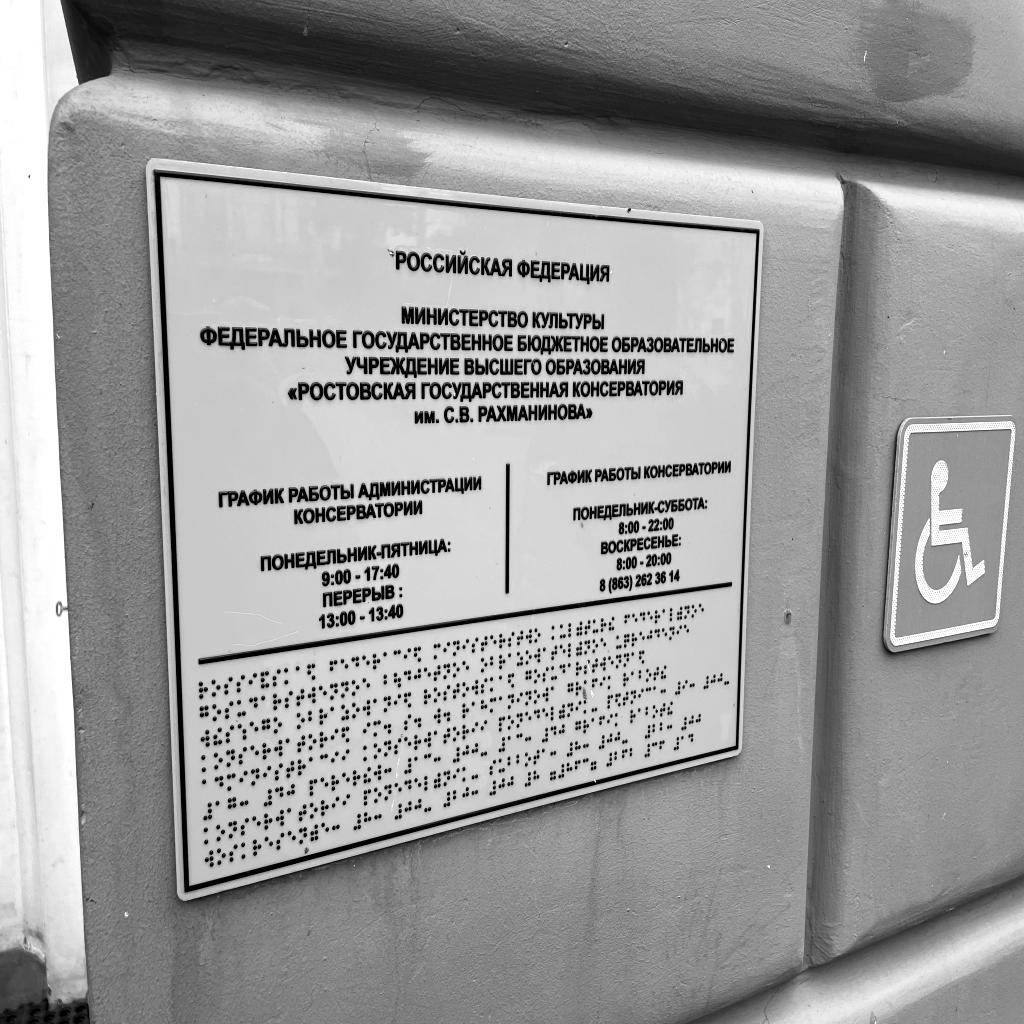_n: (228, 821, 237, 839), (226, 750, 235, 767), (251, 768, 259, 786), (299, 826, 307, 844), (330, 683, 337, 701), (453, 639, 460, 656), (443, 663, 450, 680), (384, 696, 391, 713), (384, 740, 391, 757), (385, 784, 392, 801), (341, 681, 348, 697), (508, 694, 515, 710), (444, 771, 451, 787), (516, 713, 523, 728), (630, 690, 637, 704), (585, 640, 591, 655), (669, 627, 675, 640), (616, 654, 621, 669), (624, 652, 629, 667), (568, 703, 573, 718), (526, 692, 531, 706), (685, 606, 690, 619)
_y: (237, 700, 246, 716), (498, 758, 505, 772), (560, 624, 566, 639), (551, 666, 557, 680), (616, 636, 622, 649), (593, 619, 598, 633)
a: (261, 695, 270, 712), (330, 706, 339, 723), (295, 666, 304, 682), (203, 779, 211, 797), (286, 738, 294, 755), (383, 652, 391, 668), (309, 757, 317, 773), (287, 807, 295, 823), (373, 698, 381, 713), (472, 701, 479, 717), (499, 675, 506, 690), (434, 730, 441, 745), (508, 653, 515, 667), (653, 686, 660, 700), (499, 696, 505, 711), (543, 647, 549, 661), (568, 662, 574, 676), (591, 717, 597, 731), (542, 748, 548, 762), (551, 687, 557, 700), (631, 672, 637, 685), (638, 708, 644, 721), (584, 680, 590, 692), (632, 651, 637, 665), (663, 609, 668, 622)
b: (383, 675, 392, 692), (309, 711, 317, 728), (490, 656, 497, 671), (516, 754, 523, 768), (646, 706, 652, 721), (508, 756, 514, 771), (639, 670, 645, 684)
c: (320, 754, 328, 771), (394, 649, 402, 665), (646, 687, 652, 701)
ch: (624, 634, 629, 648)
d: (215, 776, 224, 795), (351, 656, 360, 674), (249, 697, 258, 714), (403, 670, 411, 686), (405, 780, 412, 795), (560, 664, 566, 678), (534, 709, 540, 723), (654, 629, 660, 642), (640, 613, 645, 626)
d_0: (395, 800, 411, 820), (453, 745, 470, 763), (489, 778, 505, 796), (598, 733, 613, 749), (703, 674, 717, 690), (681, 715, 694, 731)
d_00: (395, 798, 422, 820), (489, 775, 514, 796), (453, 743, 479, 763), (599, 731, 621, 749), (703, 672, 723, 690), (681, 713, 701, 731)
d_1: (203, 801, 220, 821), (403, 756, 418, 774), (673, 735, 687, 751), (498, 736, 511, 752)
d_13: (404, 753, 431, 774), (498, 733, 523, 752)
d_14: (673, 733, 694, 751)
d_17: (203, 797, 237, 821)
d_2: (443, 789, 461, 808), (606, 750, 621, 767), (645, 723, 658, 739)
d_20: (443, 786, 469, 808)
d_22: (645, 721, 666, 739)
d_26: (606, 748, 628, 767)
d_262: (606, 746, 636, 767)
d_3: (645, 742, 658, 757)
d_36: (644, 740, 665, 758)
d_4: (264, 786, 283, 807), (542, 726, 557, 742)
d_40: (263, 784, 296, 807), (542, 723, 565, 743)
d_8: (353, 810, 372, 830), (525, 769, 540, 787), (558, 761, 573, 778), (567, 741, 581, 757)
d_86: (558, 760, 581, 778)
d_863: (558, 758, 589, 779)
d_9: (674, 680, 688, 695)
defis: (424, 798, 432, 813), (481, 743, 488, 757), (592, 699, 598, 712), (472, 766, 478, 779), (622, 732, 628, 744), (725, 674, 730, 686)
dvoetochie: (240, 796, 249, 812), (332, 821, 340, 836), (374, 810, 382, 825), (471, 786, 478, 801), (385, 764, 392, 778), (434, 753, 441, 767), (525, 733, 532, 746), (550, 748, 557, 760), (689, 680, 695, 693), (583, 740, 589, 752), (667, 721, 673, 733), (661, 685, 666, 698)
e: (362, 677, 371, 696), (250, 745, 259, 763), (340, 658, 349, 675), (250, 722, 259, 739), (252, 816, 261, 833), (264, 836, 273, 853), (288, 830, 297, 846), (363, 655, 371, 672), (319, 685, 327, 702), (404, 736, 412, 753), (321, 822, 329, 839), (489, 635, 497, 651), (321, 777, 329, 793), (342, 773, 350, 789), (395, 782, 403, 798), (414, 777, 422, 793), (424, 667, 431, 683), (462, 661, 469, 676), (525, 711, 532, 726), (559, 645, 566, 659), (699, 603, 705, 618), (632, 613, 638, 627), (601, 638, 607, 652), (608, 656, 614, 670), (542, 708, 548, 722), (647, 611, 653, 624), (640, 632, 645, 645), (662, 628, 667, 640), (684, 625, 689, 637)
f: (329, 660, 338, 677), (599, 716, 605, 730), (624, 615, 630, 628), (592, 679, 598, 692)
g: (199, 706, 209, 724), (262, 719, 270, 737), (525, 670, 532, 685), (568, 683, 574, 697), (575, 721, 581, 735)
gh: (414, 668, 422, 685), (647, 630, 652, 645)
i: (239, 770, 248, 789), (248, 672, 257, 690), (330, 728, 339, 746), (263, 766, 272, 783), (341, 749, 350, 766), (331, 751, 339, 769), (343, 794, 351, 811), (403, 648, 411, 664), (394, 694, 402, 710), (332, 797, 340, 813), (443, 642, 450, 659), (363, 722, 370, 739), (462, 639, 469, 655), (453, 768, 460, 784), (472, 722, 479, 737), (517, 692, 523, 708), (481, 720, 487, 735), (638, 688, 644, 703), (607, 713, 613, 728), (576, 701, 582, 715), (676, 626, 682, 639), (600, 677, 606, 690)
iKratkoe: (260, 671, 270, 688)
ii: (214, 728, 223, 745), (363, 766, 371, 784), (660, 665, 667, 680), (609, 616, 615, 631), (668, 701, 673, 715)
k: (201, 755, 210, 773), (284, 668, 293, 685), (204, 828, 213, 845), (241, 842, 250, 859), (363, 745, 371, 762), (463, 766, 470, 782), (551, 625, 558, 640), (490, 677, 497, 692), (615, 713, 621, 727), (608, 676, 614, 689), (584, 700, 589, 714)
l: (425, 775, 432, 791), (568, 623, 575, 638), (569, 643, 575, 658), (551, 706, 557, 721), (670, 608, 676, 622)
m: (227, 774, 235, 792), (374, 720, 381, 737), (434, 643, 441, 659), (490, 698, 496, 713)
myagkiy: (311, 824, 319, 841), (576, 621, 583, 636), (434, 773, 441, 788), (677, 606, 683, 621), (576, 641, 582, 656), (559, 704, 565, 719)
o: (211, 679, 221, 697), (212, 703, 221, 722), (273, 716, 282, 734), (214, 752, 223, 769), (217, 848, 226, 865), (308, 733, 316, 751), (216, 825, 225, 841), (310, 802, 318, 819), (297, 713, 305, 729), (373, 743, 381, 759), (352, 679, 359, 696), (453, 662, 460, 678), (352, 703, 359, 719), (462, 681, 469, 697), (453, 726, 460, 742), (374, 787, 381, 803), (525, 650, 532, 665), (434, 687, 441, 702), (507, 715, 514, 730), (534, 628, 541, 642), (481, 658, 488, 672), (534, 689, 540, 704), (525, 752, 531, 767), (534, 669, 540, 683), (646, 668, 652, 682), (691, 605, 697, 618), (593, 639, 598, 653), (653, 705, 658, 718)
p: (310, 779, 318, 796), (364, 789, 371, 806), (499, 716, 505, 732), (608, 695, 613, 709)
r: (198, 681, 208, 699), (273, 693, 282, 710), (253, 839, 262, 856), (319, 709, 328, 725), (263, 743, 271, 761), (298, 759, 306, 777), (373, 653, 381, 670), (320, 731, 328, 748), (265, 813, 273, 830), (321, 800, 329, 816), (332, 775, 339, 792), (353, 769, 360, 786), (499, 633, 506, 649), (424, 689, 431, 705), (414, 735, 421, 750), (462, 725, 469, 740), (499, 655, 506, 669), (601, 617, 607, 632), (576, 661, 582, 676), (463, 703, 469, 718), (632, 633, 638, 647), (576, 682, 582, 696), (584, 720, 590, 734), (630, 709, 636, 723), (623, 673, 629, 686), (655, 609, 660, 624)
s: (223, 677, 233, 695), (236, 675, 245, 694), (272, 669, 281, 687), (225, 701, 234, 719), (241, 818, 250, 836), (229, 844, 238, 862), (276, 832, 285, 850), (284, 691, 293, 708), (226, 726, 234, 744), (239, 747, 247, 765), (275, 764, 283, 781), (394, 738, 402, 755), (481, 678, 488, 695), (404, 714, 411, 731), (471, 637, 478, 653), (443, 685, 450, 701), (508, 632, 515, 647), (489, 760, 496, 775), (543, 667, 549, 682), (584, 660, 590, 675)
sh: (237, 723, 247, 741)
skobka: (550, 766, 556, 781), (591, 757, 597, 771)
t: (296, 689, 305, 707), (286, 761, 295, 779), (298, 804, 307, 822), (298, 735, 306, 754), (481, 635, 488, 652), (434, 665, 441, 681), (453, 684, 460, 700), (444, 728, 451, 744), (517, 630, 524, 645), (584, 620, 591, 635), (551, 646, 558, 661), (592, 658, 598, 673), (534, 750, 540, 765), (660, 703, 666, 717), (654, 667, 659, 681), (623, 692, 628, 706)
tochka: (384, 719, 391, 735), (414, 713, 421, 728), (444, 708, 450, 722)
u: (394, 672, 401, 688)
v: (204, 850, 214, 867), (201, 730, 210, 748), (275, 739, 283, 757), (308, 687, 316, 704), (276, 810, 284, 827), (374, 764, 381, 781), (363, 700, 370, 716), (434, 708, 441, 724), (526, 629, 533, 644), (424, 732, 431, 747), (534, 648, 540, 663), (472, 680, 478, 695), (543, 687, 549, 702), (600, 657, 606, 671)
x: (481, 700, 487, 716)
ya: (307, 663, 316, 681), (413, 646, 422, 663), (342, 726, 350, 743), (404, 693, 412, 708), (508, 673, 514, 688), (639, 650, 645, 664), (615, 693, 621, 707)
z: (341, 704, 349, 720), (517, 651, 523, 666)
